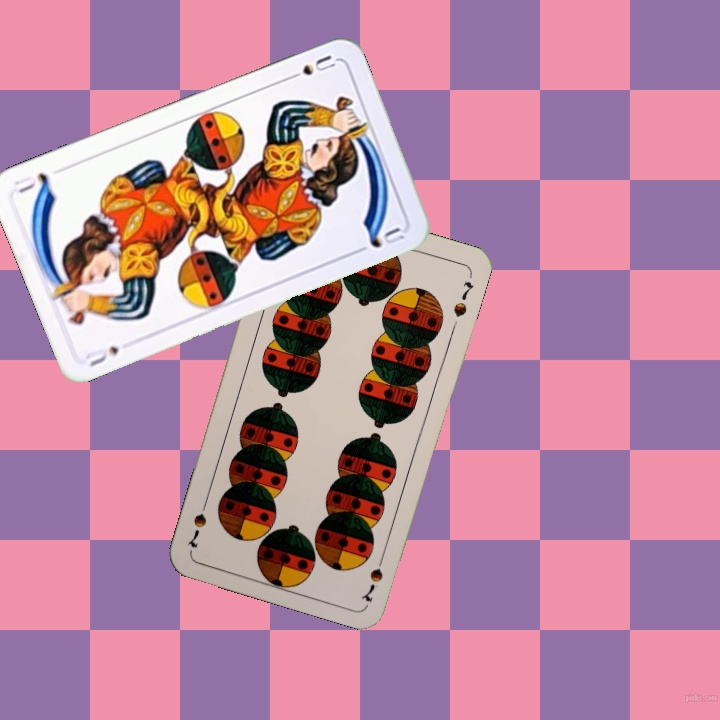S7: (357, 548, 388, 605)
SU: (282, 51, 339, 84), (82, 342, 122, 370)
